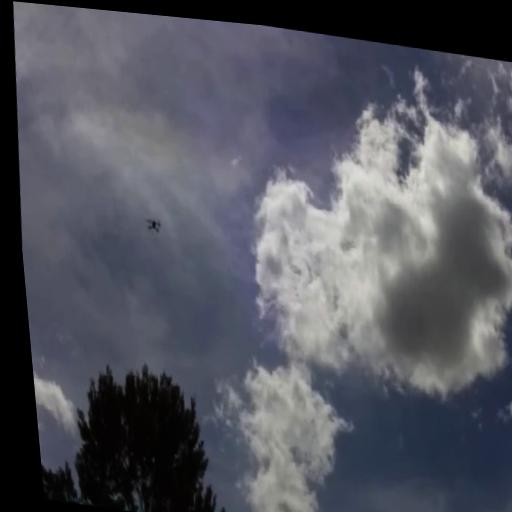drones: (139, 212, 164, 239)
